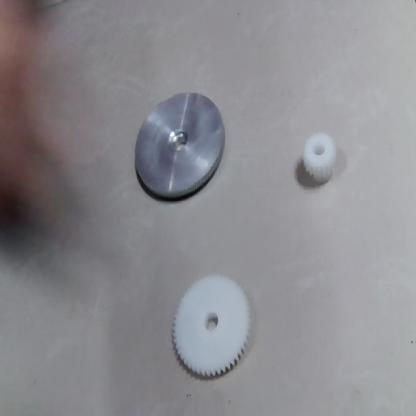FOD: (130, 90, 226, 203), (167, 265, 256, 381), (298, 130, 340, 193)
